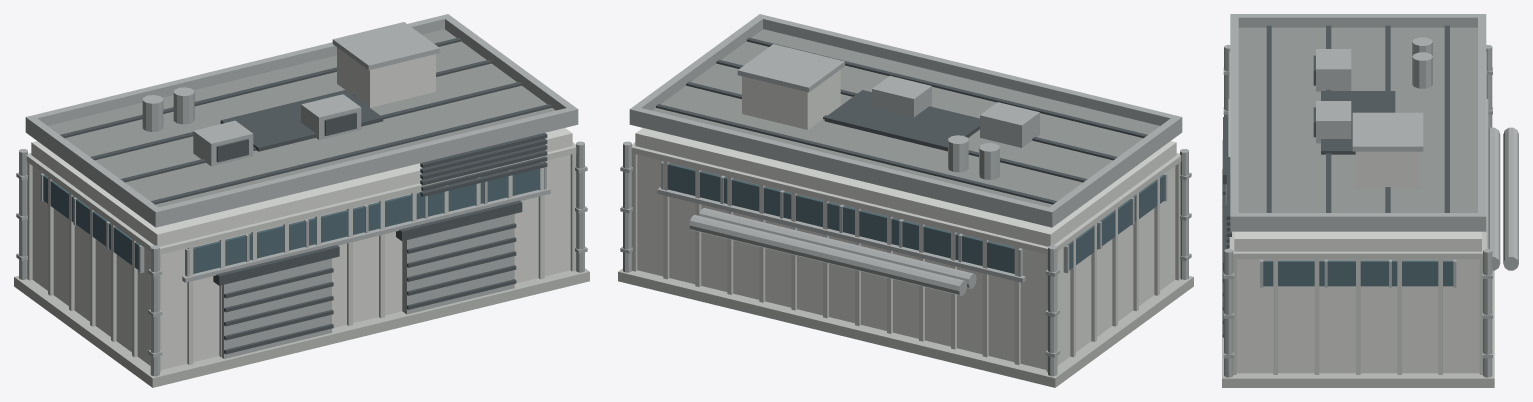
Rendered from treatmenthouse.glb.
The picture shows the model from 3 angles, left to right: view 1: azimuth 30°, elevation 25°; view 2: azimuth 150°, elevation 25°; view 3: azimuth 270°, elevation 25°; orthographic projection.
Visible parts, largest first — view 1: treatmenthouse; view 2: treatmenthouse; view 3: treatmenthouse.
Part boxes in pixels (x1=…): treatmenthouse: x1=14, y1=14, x2=589, y2=387; treatmenthouse: x1=618, y1=14, x2=1193, y2=387; treatmenthouse: x1=1222, y1=14, x2=1518, y2=387.
Bounding box in the file's own units: 4.77 × 2.13 × 2.85.
